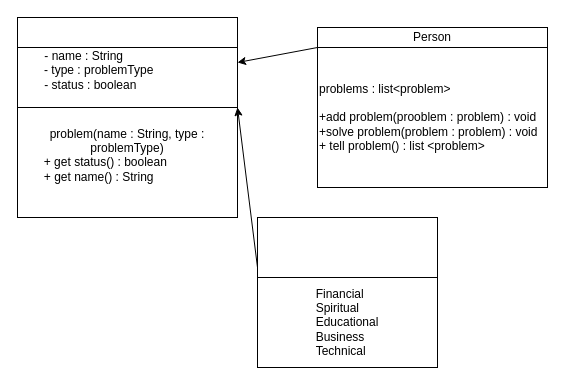
Image size: 565x385. Some labels were removed from this diagram. The centre of each missing label's shape, as x and y in pixels:
enum problemType: [347,247]
Problem: [127,32]
